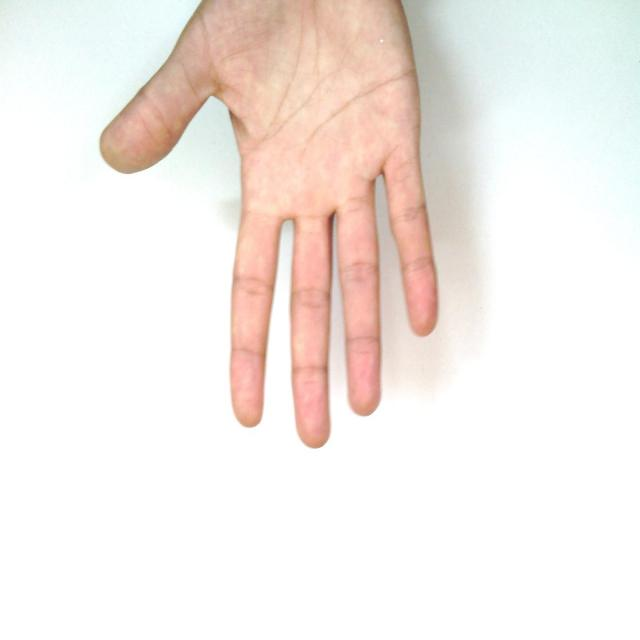others: (87, 1, 540, 470)
